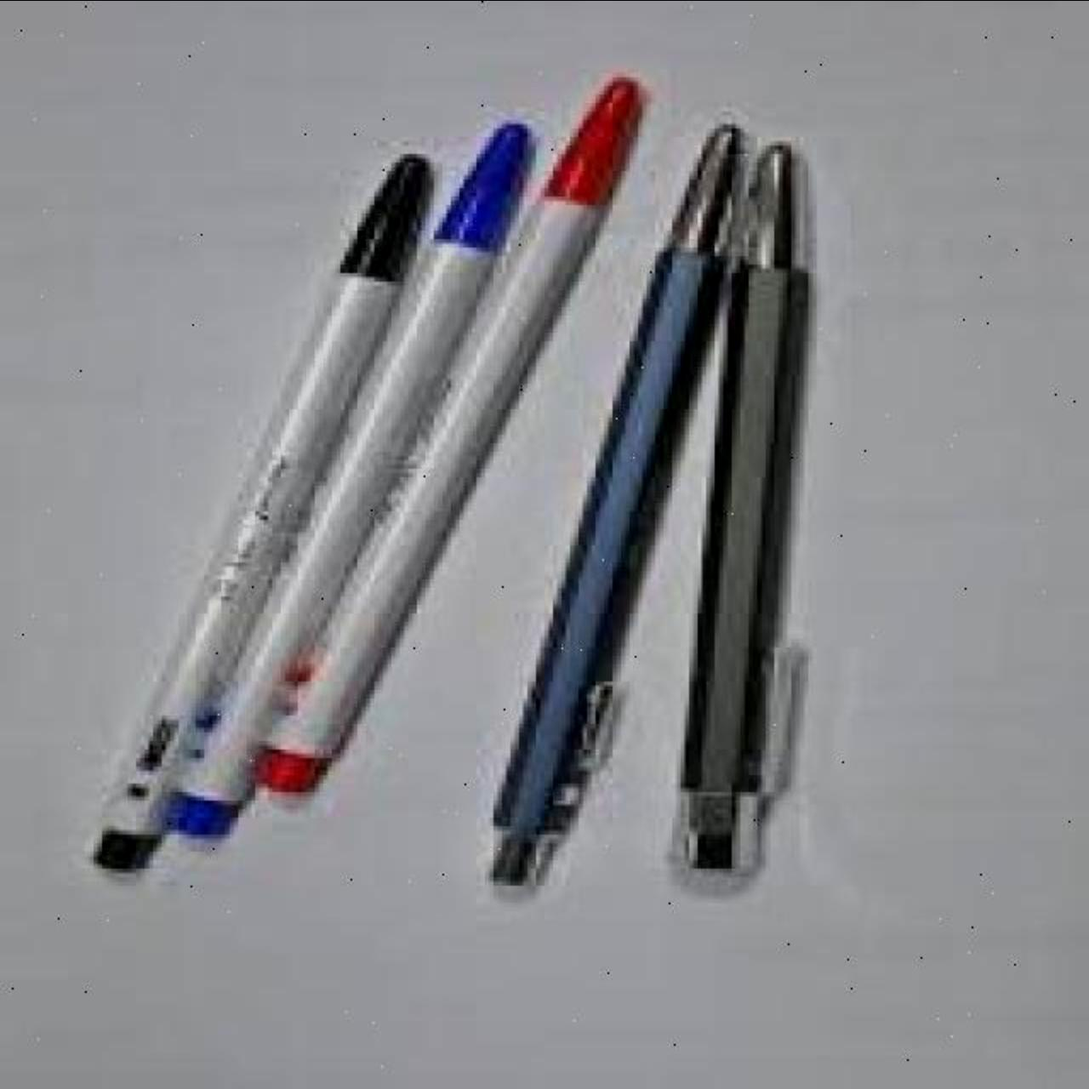pen: (77, 148, 430, 876)
